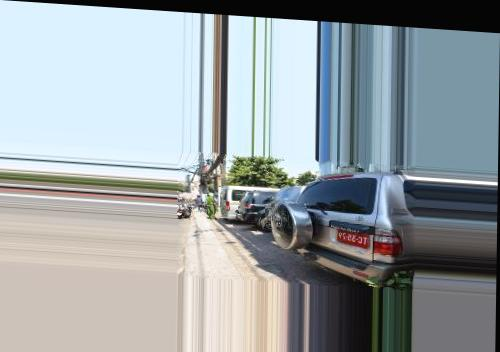License_Plate: (333, 226, 370, 253)
